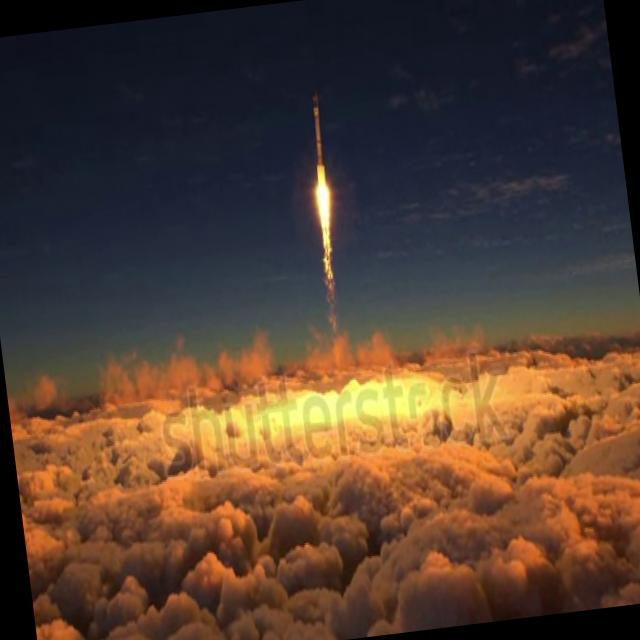rocket: (299, 91, 351, 327)
